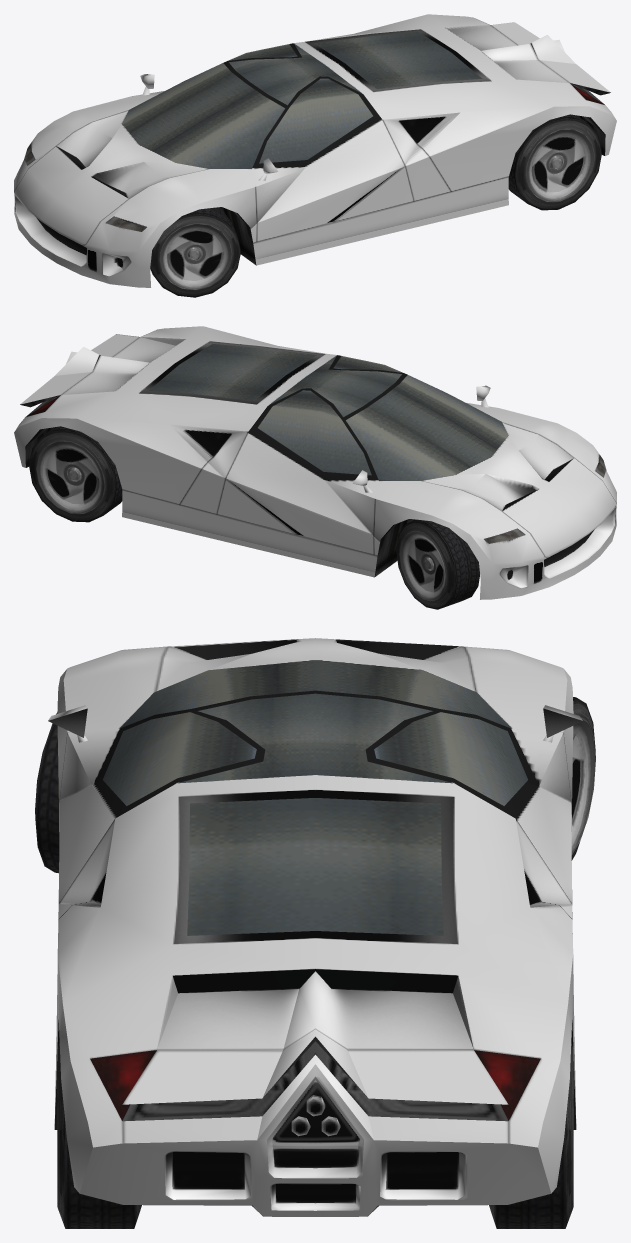
File: GranTourismo95.fbx
3 views of the same model, one above another, from view 1: azimuth 30°, elevation 25°; view 2: azimuth 150°, elevation 25°; view 3: azimuth 270°, elevation 25° (orthographic). The views are drawn at different scales.
Parts seen in each view (by area): view 1: Body, Glass, Wheel_RL, Wheel_FL, Spoiler, Bottom, Glass_Headlights; view 2: Body, Glass, Wheel_RR, Wheel_FR, Spoiler, Bottom, Glass_Headlights; view 3: Body, Glass, Spoiler, Bottom, Glass_Stoplights, Wheel_RL, Wheel_RR, Wheel_FL, Wheel_FR.
Part boxes in pixels (box(x1,y1,x2,y2)): Body: box(14, 14, 616, 287); Glass: box(122, 32, 482, 168); Wheel_RL: box(508, 114, 601, 210); Wheel_FL: box(150, 207, 240, 297); Spoiler: box(491, 22, 610, 95); Bottom: box(218, 44, 605, 265); Glass_Headlights: box(25, 143, 146, 231); Body: box(14, 326, 616, 599); Glass: box(149, 344, 508, 480); Wheel_RR: box(29, 426, 122, 522); Wheel_FR: box(396, 519, 479, 609); Spoiler: box(20, 334, 139, 407); Bottom: box(25, 356, 415, 576); Glass_Headlights: box(484, 455, 605, 543); Body: box(48, 638, 582, 1216); Glass: box(103, 660, 527, 935); Spoiler: box(122, 1029, 508, 1104); Bottom: box(54, 1020, 576, 1215); Glass_Stoplights: box(90, 1050, 540, 1120); Wheel_RL: box(57, 1044, 141, 1228); Wheel_RR: box(489, 1044, 573, 1228); Wheel_FL: box(35, 712, 59, 873); Wheel_FR: box(571, 697, 595, 860).
Size of the model in its own units: 4465 by 1182 by 2074.
